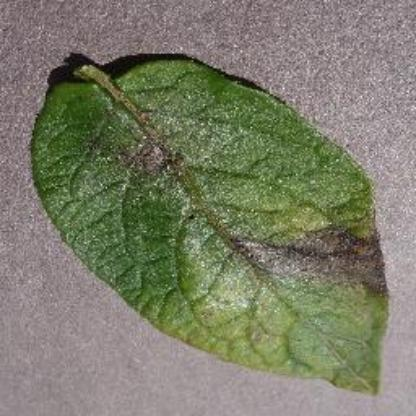Late-Blight: (31, 47, 394, 405)
